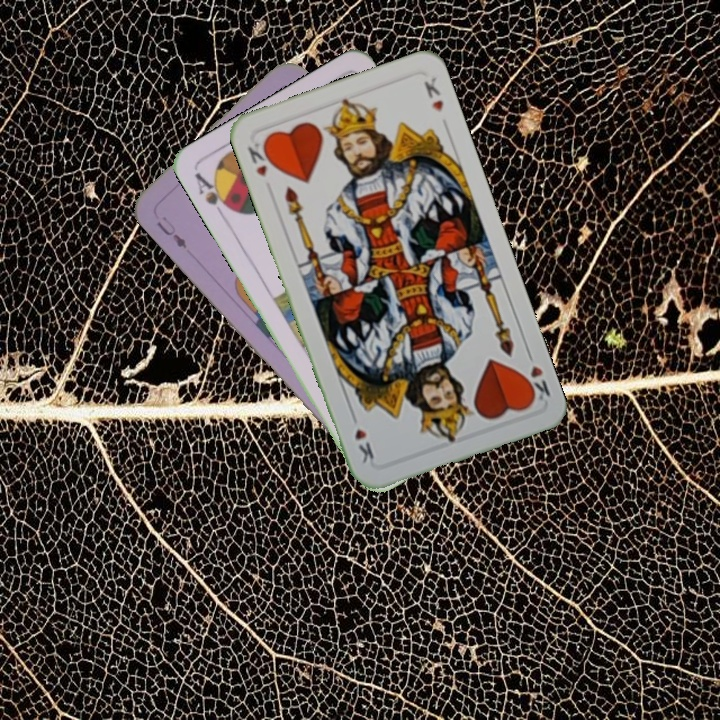EU: (152, 212, 190, 251)
HK: (519, 346, 553, 407), (243, 137, 276, 180)
SA: (190, 168, 237, 221)
